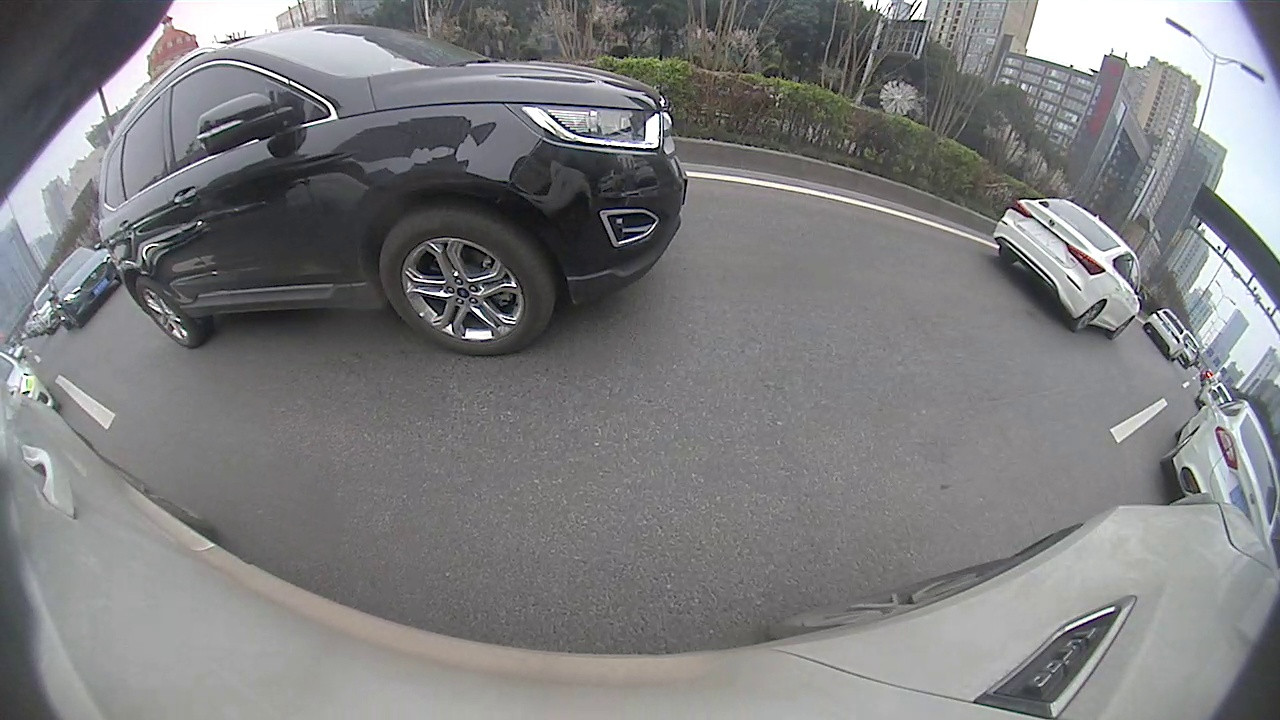car: (98, 25, 689, 358), (991, 197, 1149, 341), (1159, 388, 1278, 548), (45, 246, 119, 333), (1144, 308, 1190, 363)
front: (378, 209, 552, 353)
rear: (127, 277, 201, 345), (1072, 302, 1105, 332)
